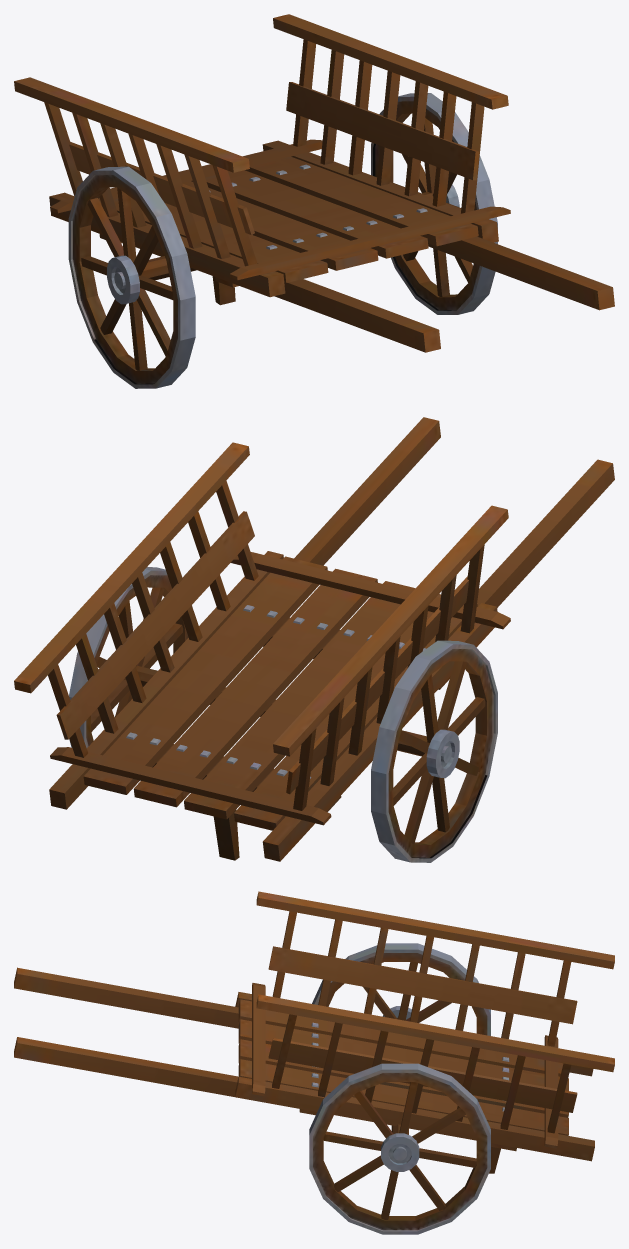
Rendered from hand_cart.glb.
The picture shows the model from 3 angles, top to bottom: view 1: azimuth 30°, elevation 25°; view 2: azimuth 150°, elevation 25°; view 3: azimuth 270°, elevation 25°; orthographic projection. The views are drawn at different scales.
Parts seen in each view (by area): view 1: hand_cart; view 2: hand_cart; view 3: hand_cart.
Part boxes in pixels (x1,y1,x2,y2): hand_cart: [14, 14, 614, 388]; hand_cart: [14, 417, 614, 862]; hand_cart: [14, 891, 614, 1234].
Size of the model in its own units: 0.9972 by 0.8 by 1.93.
1 material, 1 textured.
